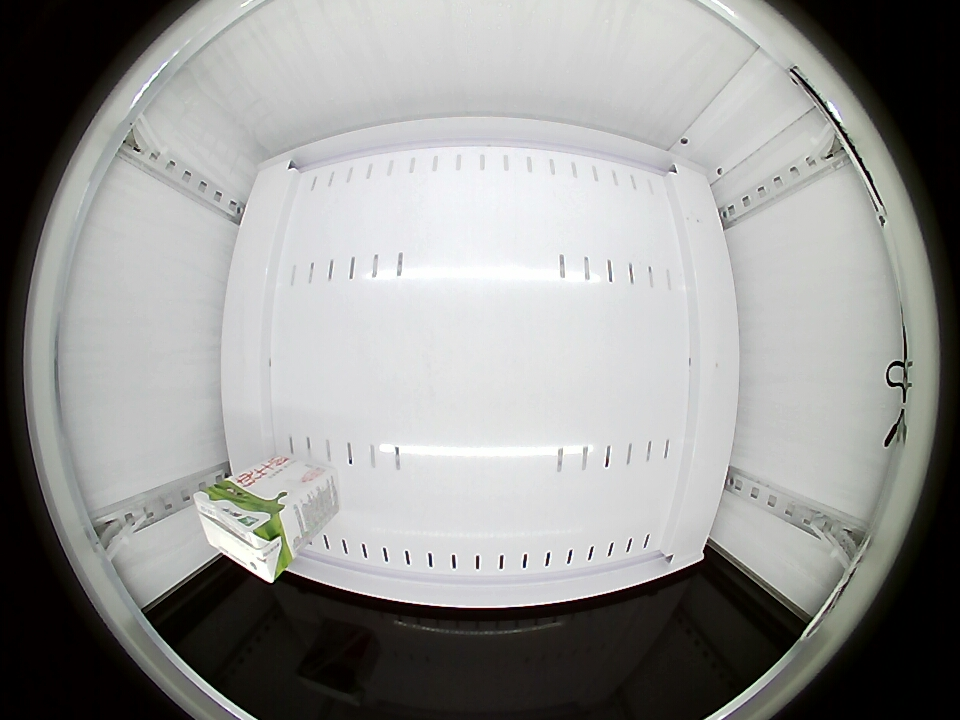mengniu: (194, 483, 294, 584)
